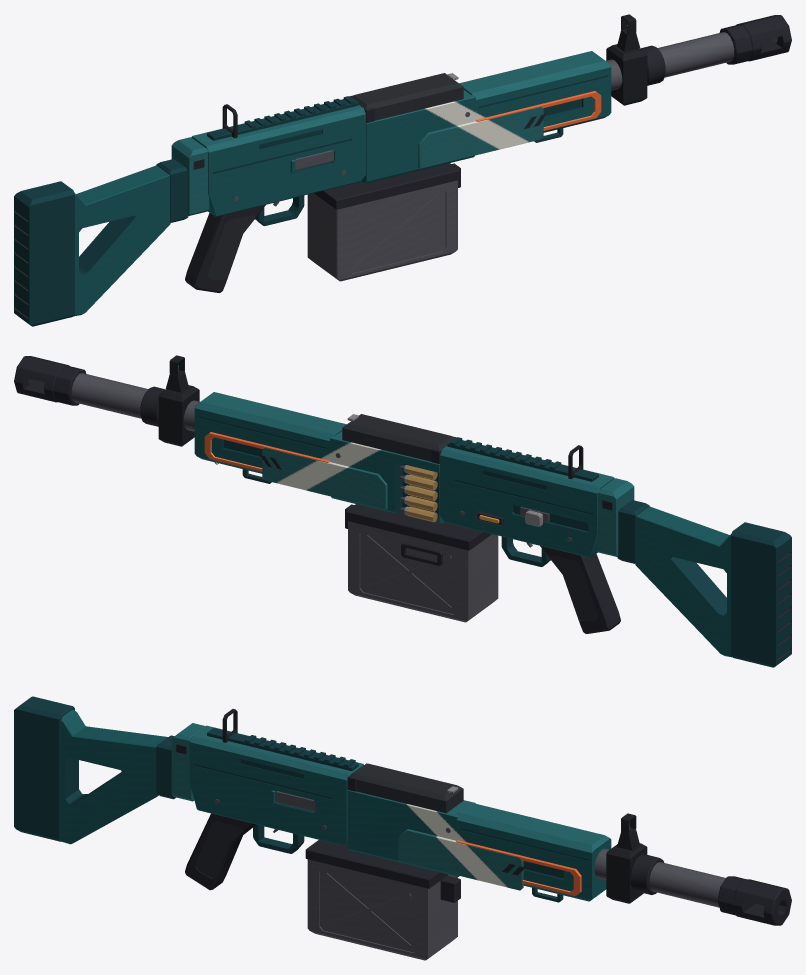
The model's file is Odin_Breakwater_v01.fbx.
3 renders of one model, top to bottom at view 1: azimuth 30°, elevation 25°; view 2: azimuth 150°, elevation 25°; view 3: azimuth 330°, elevation 25°, orthographic.
Visible parts, largest first — view 1: Odin_Receiver, Odin_Stock, Odin_AmmoBox, Odin_Barrel, Odin_Grip, Odin_FeedCover, Odin_Sights, Breakwater_ForeBumper_R; view 2: Odin_Receiver, Odin_Stock, Odin_AmmoBox, Odin_Barrel, Odin_Grip, Odin_FeedCover, Odin_Sights, Odin_FeedBelt, Breakwater_ForeBumper_L; view 3: Odin_Receiver, Odin_Stock, Odin_AmmoBox, Odin_Barrel, Odin_FeedCover, Odin_Grip, Odin_Sights, Breakwater_ForeBumper_R, Odin_Bolt.
Part boxes in pixels (bbox=[...]): Odin_Receiver: bbox=[171, 51, 611, 225]; Odin_Stock: bbox=[14, 159, 188, 326]; Odin_AmmoBox: bbox=[307, 163, 460, 281]; Odin_Barrel: bbox=[606, 15, 791, 90]; Odin_Grip: bbox=[185, 205, 265, 292]; Odin_FeedCover: bbox=[349, 73, 463, 123]; Odin_Sights: bbox=[222, 14, 647, 138]; Breakwater_ForeBumper_R: bbox=[476, 91, 601, 130]; Odin_Receiver: bbox=[194, 392, 634, 566]; Odin_Stock: bbox=[617, 500, 791, 667]; Odin_AmmoBox: bbox=[345, 504, 498, 622]; Odin_Barrel: bbox=[14, 356, 199, 431]; Odin_Grip: bbox=[540, 546, 620, 633]; Odin_FeedCover: bbox=[342, 414, 456, 464]; Odin_Sights: bbox=[158, 355, 583, 479]; Odin_FeedBelt: bbox=[400, 465, 437, 522]; Breakwater_ForeBumper_L: bbox=[204, 432, 329, 471]; Odin_Receiver: bbox=[171, 723, 611, 902]; Odin_Stock: bbox=[14, 696, 175, 844]; Odin_AmmoBox: bbox=[305, 840, 460, 960]; Odin_Barrel: bbox=[594, 848, 791, 925]; Odin_FeedCover: bbox=[347, 763, 463, 813]; Odin_Grip: bbox=[185, 813, 255, 890]; Odin_Sights: bbox=[222, 709, 647, 903]; Breakwater_ForeBumper_R: bbox=[456, 840, 581, 896]; Odin_Bolt: bbox=[275, 791, 315, 811].
Size of the model in its own units: 461 by 109 by 33.54.
Materials: 14 (11 with a texture image).
